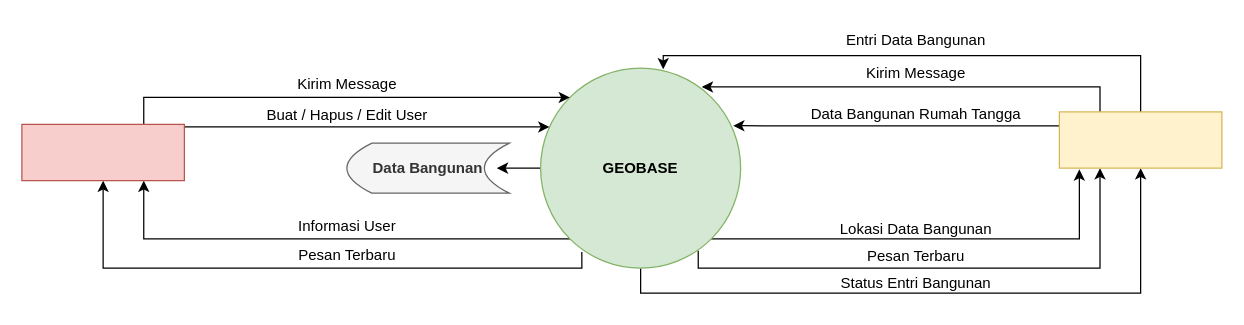
Some shapes in this 1244 by 325 pixel diagram are drawn without their labels. Here are the shapes that lost their labels. From the top down, the box of each, then its label:
(21, 123, 184, 181): Admin / Koseka
(1058, 111, 1222, 168): Kortim / Petugas
